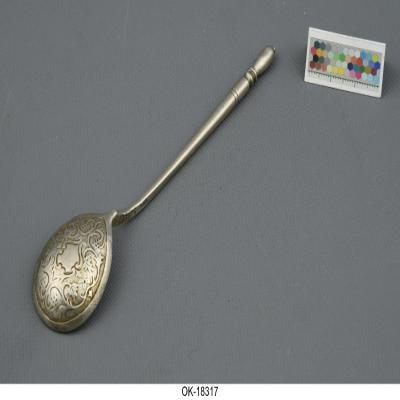dpi: (32, 47, 276, 334)
